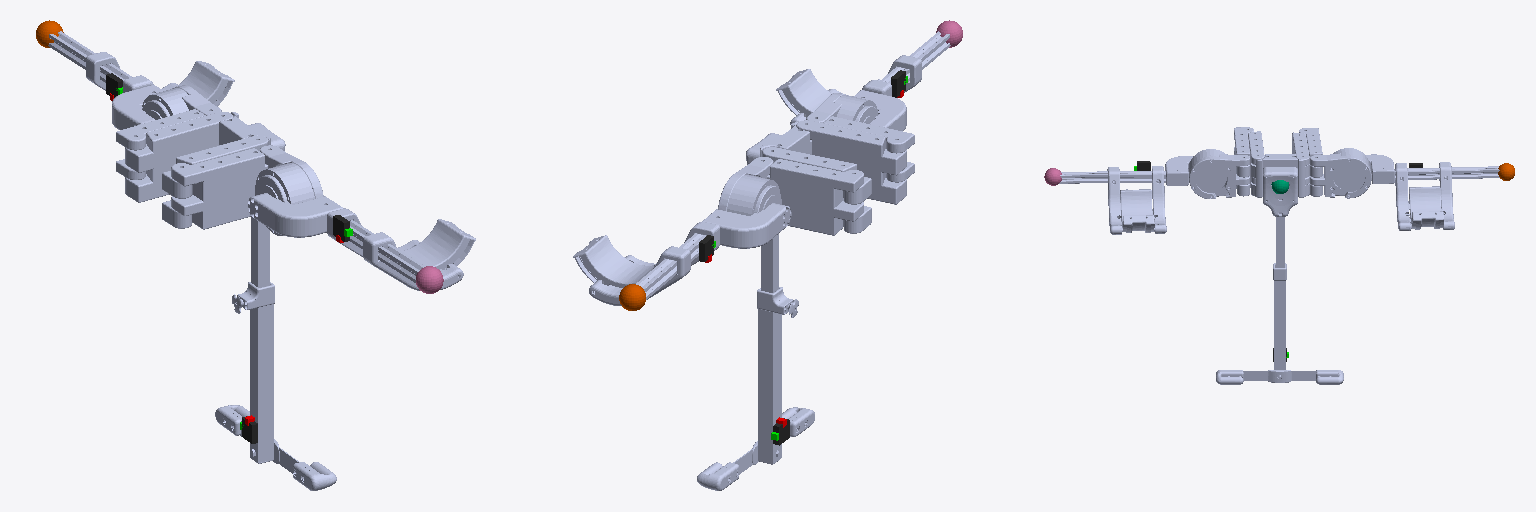
The robot description file, URDF, robot "exo1":
<?xml version="1.0" encoding="utf-8"?>
<!-- This URDF was automatically created by SolidWorks to URDF Exporter! Originally created by Stephen Brawner (brawner@gmail.com) 
     Commit Version: 1.6.0-4-g7f85cfe  Build Version: 1.6.7995.38578
     For more information, please see http://wiki.ros.org/sw_urdf_exporter -->
<robot name="exo1">
  <link name="base_link">
    <inertial>
      <origin xyz="-0.02 0 0.13" rpy="0 1.57 0" />
      <mass value="0.5" />
      <inertia ixx="0.00013" ixy="0" ixz="0" iyy="0.0026" iyz="0" izz="0.0026" />
    </inertial>
    <visual>
      <origin xyz="0 0 0" rpy="0 0 0" />
      <geometry>
        <mesh filename="./meshes/base_link.STL" />
      </geometry>
      <material name="">
        <color rgba="0.79216 0.81961 0.93333 1" />
      </material>
    </visual>
    <collision>
      <origin xyz="0 0 0" rpy="0 0 0" />
      <geometry>
        <mesh filename="./meshes/base_link.STL" />
      </geometry>
    </collision>
  </link>
  <link name="upper_back">
    <inertial>
      <origin xyz="-0.02 0 0.19" rpy="0 1.57 0" />
      <mass value="0.5" />
      <inertia ixx="0.00013" ixy="0" ixz="0" iyy="0.0051" iyz="0" izz="0.0051" />
    </inertial>
    <visual>
      <origin xyz="0 0 0" rpy="0 0 0" />
      <geometry>
        <mesh filename="./meshes/upper_back.STL" />
      </geometry>
      <material name="">
        <color rgba="0.79216 0.81961 0.93333 1" />
      </material>
    </visual>
    <collision>
      <origin xyz="0 0 0" rpy="0 0 0" />
      <geometry>
        <mesh filename="./meshes/upper_back.STL" />
      </geometry>
    </collision>
  </link>

  <link name="trunk_attachment">
    <inertial>
			<mass value="1e-09"/>
			<origin rpy="0 0 0" xyz="0 0 0"/>
			<inertia ixx="1e-8" ixy="0" ixz="0" iyy="1e-8" iyz="0" izz="1e-8"/>
		</inertial>
		<visual>
			<geometry>
				<sphere radius="0.02"/>
			</geometry>
			<origin rpy="0 0 0" xyz="0 0 0"/>
			<material name="red"/>
		</visual>
  </link>

  <joint name="J_trunk_attachment" type="fixed">
		<parent link="upper_back"/>
		<child link="trunk_attachment"/>
		<origin rpy="-1.5707963267948966 -1.5707963267948966 0" xyz="0 0 0.32"/>
	</joint>

  <joint name="back_sizing" type="fixed">
    <origin xyz="-0.0115 0.00125 0.15766" rpy="0 0 0" />
    <parent link="base_link" /><child link="upper_back" />
    <!-- <axis xyz="0 0 1" />
    <limit lower="-0.13" upper="0.10" effort="1000" velocity="1000" /> -->
  </joint>
  <!-- <joint name="back_sizing" type="prismatic">
    <origin xyz="-0.0115 0.00125 0.15766" rpy="0 0 0" />
    <parent link="base_link" />
    <child link="upper_back" />
    <axis xyz="0 0 1" />
    <limit lower="-0.13" upper="0.10" effort="1000" velocity="1000" />
  </joint> -->
  <link name="right_back_clavicle">
    <inertial>
      <origin xyz="-0.07 0 -0.05" rpy="1.57 0 0" />
      <mass value="0.3" />
      <inertia ixx="0.00017" ixy="0" ixz="0" iyy="0.00057" iyz="0" izz="0.0007" />
    </inertial>
    <visual>
      <origin xyz="0 0 0" rpy="0 0 0" />
      <geometry>
        <mesh filename="./meshes/right_back_clavicle.STL" />
      </geometry>
      <material name="">
        <color rgba="0.79216 0.81961 0.93333 1" />
      </material>
    </visual>
    <collision>
      <origin xyz="0 0 0" rpy="0 0 0" />
      <geometry>
        <mesh filename="./meshes/right_back_clavicle.STL" />
      </geometry>
    </collision>
  </link>
  <joint name="right_back_clavicle_joint" type="revolute">
    <origin xyz="-0.042927 -0.0498 0.37299" rpy="0 0 0.057138" />
    <parent link="upper_back" />
    <child link="right_back_clavicle" />
    <axis xyz="0 0 1" />
    <limit lower="0" upper="1.57" effort="1000" velocity="1000" />
  </joint>
  <link name="right_shoulder_clavicle">
    <inertial>
      <origin xyz="-0.07 0.02 -0.05" rpy="1.57 0 0" />
      <mass value="0.3" />
      <inertia ixx="0.00017" ixy="0" ixz="0" iyy="0.00057" iyz="0" izz="0.0007" />
    </inertial>
    <visual>
      <origin xyz="0 0 0" rpy="0 0 0" />
      <geometry>
        <mesh filename="./meshes/right_shoulder_clavicle.STL" />
      </geometry>
      <material name="">
        <color rgba="0.79216 0.81961 0.93333 1" />
      </material>
    </visual>
    <collision>
      <origin xyz="0 0 0" rpy="0 0 0" />
      <geometry>
        <mesh filename="./meshes/right_shoulder_clavicle.STL" />
      </geometry>
    </collision>
  </link>
  <joint name="right_shoulder_clavicle_joint" type="revolute">
    <origin xyz="-0.14 -0.015 -0.0015" rpy="0 0 3.1302" />
    <parent link="right_back_clavicle" />
    <child link="right_shoulder_clavicle" />
    <axis xyz="0 0 1" />
    <limit lower="-2.82" upper="0" effort="1000" velocity="1000" />
  </joint>
  <link name="right_motor">
    <inertial>
      <origin xyz="-0.06 0.025 -0.05" rpy="0 0 0" />
      <mass value="1.0" />
      <inertia ixx="0.001" ixy="-0" ixz="0" iyy="0.0015" iyz="0" izz="0.0015" />
    </inertial>
    <visual>
      <origin xyz="0 0 0" rpy="0 0 0" />
      <geometry>
        <mesh filename="./meshes/right_motor.STL" />
      </geometry>
      <material name="">
        <color rgba="0.79216 0.81961 0.93333 1" />
      </material>
    </visual>
    <collision>
      <origin xyz="0 0 0" rpy="0 0 0" />
      <geometry>
        <mesh filename="./meshes/right_motor.STL" />
      </geometry>
    </collision>
  </link>
  <joint name="right_shoulder_joint" type="revolute">
    <origin xyz="-0.14 0.015 -0.0015" rpy="0 0 -1.5708" />
    <parent link="right_shoulder_clavicle" />
    <child link="right_motor" />
    <axis xyz="0 0 1" />
    <limit lower="-0.16" upper="3.14" effort="1000" velocity="1000" />
  </joint>
  <link name="right_arm">
    <inertial>
      <origin xyz="-0.2 0.02 -0.05" rpy="0 0 -0.07" />
      <mass value="0.3" />
      <inertia ixx="0.00005" ixy="0" ixz="0" iyy="0.0025" iyz="0" izz="0.0025" />
    </inertial>
    <visual>
      <origin xyz="0 0 0" rpy="0 0 0" />
      <geometry>
        <mesh filename="./meshes/right_arm.STL" />
      </geometry>
      <material name="">
        <color rgba="0.79216 0.81961 0.93333 1" />
      </material>
    </visual>
    <collision>
      <origin xyz="0 0 0" rpy="0 0 0" />
      <geometry>
        <mesh filename="./meshes/right_arm.STL" />
      </geometry>
    </collision>
  </link>
  <joint name="right_motor_joint" type="revolute">
    <origin xyz="-0.072 0.0505 -0.04575" rpy="-1.5708 0.088715 0" />
    <parent link="right_motor" />
    <child link="right_arm" />
    <axis xyz="0 0 1" />
    <limit lower="-1.76" upper="1.65" effort="1000" velocity="1000" />
  </joint>
  <link name="right_arm_slider">
    <inertial>
      <origin xyz="0.05 -0.05 0.06" rpy="1.57 -0.6 0" />
      <mass value="0.2" />
       <inertia ixx="0.00038" ixy="0" ixz="0" iyy="0.00038" iyz="0" izz="0.00075" />
    </inertial>
    <visual>
      <origin xyz="0 0 0" rpy="0 0 0" />
      <geometry>
        <mesh filename="./meshes/right_arm_slider.STL" />
      </geometry>
      <material name="">
        <color rgba="0.79216 0.81961 0.93333 1" />
      </material>
    </visual>
    <collision>
      <origin xyz="0 0 0" rpy="0 0 0" />
      <geometry>
        <mesh filename="./meshes/right_arm_slider.STL" />
      </geometry>
    </collision>
  </link>
   <joint name="right_arm_slider_sizing" type="fixed">
    <origin xyz="-0.11172 -0.011818 -0.047474" rpy="-1.3026 1.5708 1.7489" />
    <parent link="right_arm" /><child link="right_arm_slider" />
  </joint>
  <link name="right_arm_interface">
    <inertial>
      <origin xyz="0 -0.05 -0.03" rpy="1.57 0 0" />
      <mass value="0.2" />
       <inertia ixx="0.00017" ixy="0" ixz="0" iyy="0.00038" iyz="0" izz="0.00054" />
    </inertial>
    <visual>
      <origin xyz="0 0 0" rpy="0 0 0" />
      <geometry>
        <mesh filename="./meshes/right_arm_interface.STL" />
      </geometry>
      <material name="">
        <color rgba="0.79216 0.81961 0.93333 1" />
      </material>
    </visual>
    <collision>
      <origin xyz="0 0 0" rpy="0 0 0" />
      <geometry>
        <mesh filename="./meshes/right_arm_interface.STL" />
      </geometry>
    </collision>
  </link>
  <joint name="right_arm_interface_joint" type="fixed">
    <origin xyz="0.10023 -0.0175 0.0915" rpy="0 0 0" />
    <parent link="right_arm_slider" /><child link="right_arm_interface" />
  </joint>
  <link name="left_back_clavicle">
    <inertial>
      <origin xyz="-0.07 0.0 -0.05" rpy="1.57 0 0" />
      <mass value="0.3" />
      <inertia ixx="0.00017" ixy="0" ixz="0" iyy="0.00057" iyz="0" izz="0.0007" />
    </inertial>
    <visual>
      <origin xyz="0 0 0" rpy="0 0 0" />
      <geometry>
        <mesh filename="./meshes/left_back_clavicle.STL" />
      </geometry>
      <material name="">
        <color rgba="0.79216 0.81961 0.93333 1" />
      </material>
    </visual>
    <collision>
      <origin xyz="0 0 0" rpy="0 0 0" />
      <geometry>
        <mesh filename="./meshes/left_back_clavicle.STL" />
      </geometry>
    </collision>
  </link>
  <joint name="left_back_clavicle_joint" type="revolute">
    <origin xyz="-0.042927 0.0502 0.37012" rpy="0 0 0.067566" />
    <parent link="upper_back" />
    <child link="left_back_clavicle" />
    <axis xyz="0 0 1" />
    <limit lower="-1.57" upper="0" effort="1000" velocity="100" />
  </joint>
  <link name="left_shoulder_clavicle">
    <inertial>
      <origin xyz="-0.07 -0.01 -0.05" rpy="1.57 0 0" />
      <mass value="0.3" />
      <inertia ixx="0.00017" ixy="0" ixz="0" iyy="0.00057" iyz="0" izz="0.0007" />
    </inertial>
    <visual>
      <origin xyz="0 0 0" rpy="0 0 0" />
      <geometry>
        <mesh filename="./meshes/left_shoulder_clavicle.STL" />
      </geometry>
      <material name="">
        <color rgba="0.79216 0.81961 0.93333 1" />
      </material>
    </visual>
    <collision>
      <origin xyz="0 0 0" rpy="0 0 0" />
      <geometry>
        <mesh filename="./meshes/left_shoulder_clavicle.STL" />
      </geometry>
    </collision>
  </link>
  <joint name="left_shoulder_clavicle_joint" type="revolute">
    <origin xyz="-0.14 0.015 -0.0015" rpy="0 0 -3.1385" />
    <parent link="left_back_clavicle" />
    <child link="left_shoulder_clavicle" />
    <axis xyz="0 0 1" />
    <limit lower="0" upper="3.14" effort="1000" velocity="1000" />
  </joint>
  <link name="left_motor">
    <inertial>
      <origin xyz="0.02 -0.07 -0.05" rpy="0 0 1.57" />
      <mass value="1.0" />
      <inertia ixx="0.001" ixy="-0" ixz="0" iyy="0.0015" iyz="0" izz="0.0015" />
    </inertial>
    <visual>
      <origin xyz="0 0 0" rpy="0 0 0" />
      <geometry>
        <mesh filename="./meshes/left_motor.STL" />
      </geometry>
      <material name="">
        <color rgba="0.79216 0.81961 0.93333 1" />
      </material>
    </visual>
    <collision>
      <origin xyz="0 0 0" rpy="0 0 0" />
      <geometry>
        <mesh filename="./meshes/left_motor.STL" />
      </geometry>
    </collision>
  </link>
  <joint name="left_shoulder_joint" type="revolute">
    <origin xyz="-0.14 -0.015 -0.0015" rpy="0 0 0" />
    <parent link="left_shoulder_clavicle" />
    <child link="left_motor" />
    <axis xyz="0 0 1" />
    <limit lower="-3.14" upper="0.16" effort="1000" velocity="1000" />
  </joint>
  <link name="left_arm">
    <inertial>
      <origin xyz="-0.2 0.0 -0.05" rpy="0 0 0" />
      <mass value="0.3" />
      <inertia ixx="0.00005" ixy="0" ixz="0" iyy="0.0025" iyz="0" izz="0.0025" />
    </inertial>
    <visual>
      <origin xyz="0 0 0" rpy="0 0 0" />
      <geometry>
        <mesh filename="./meshes/left_arm.STL" />
      </geometry>
      <material name="">
        <color rgba="0.79216 0.81961 0.93333 1" />
      </material>
    </visual>
    <collision>
      <origin xyz="0 0 0" rpy="0 0 0" />
      <geometry>
        <mesh filename="./meshes/left_arm.STL" />
      </geometry>
    </collision>
  </link>

  <link name="left_arm_tip">
    <inertial>
			<mass value="1e-09"/>
			<origin rpy="0 0 0" xyz="0 0 0"/>
			<inertia ixx="1e-8" ixy="0" ixz="0" iyy="1e-8" iyz="0" izz="1e-8"/>
		</inertial>
		<visual>
			<geometry>
				<sphere radius="0.02"/>
			</geometry>
			<origin rpy="0 0 0" xyz="0 0 0"/>
			<material name="red"/>
		</visual>
  </link>

  <joint name="J_left_arm_tip" type="fixed">
		<parent link="left_arm"/>
		<child link="left_arm_tip"/>
		<origin rpy="-1.5707963267948966 -1.5707963267948966 0" xyz="-0.35 0 -0.05"/>
	</joint>

  <link name="right_arm_tip">
    <inertial>
			<mass value="1e-09"/>
			<origin rpy="0 0 0" xyz="0 0 0"/>
			<inertia ixx="1e-8" ixy="0" ixz="0" iyy="1e-8" iyz="0" izz="1e-8"/>
		</inertial>
		<visual>
			<geometry>
				<sphere radius="0.02"/>
			</geometry>
			<origin rpy="0 0 0" xyz="0 0 0"/>
			<material name="red"/>
		</visual>
  </link>

  <joint name="J_right_arm_tip" type="fixed">
		<parent link="right_arm"/>
		<child link="right_arm_tip"/>
		<origin rpy="-1.5707963267948966 -1.5707963267948966 0" xyz="-0.35 0.025 -0.050"/>
	</joint>


  <joint name="left_motor_joint" type="revolute">
    <origin xyz="0.047534 -0.072641 -0.04575" rpy="1.5708 0 1.5574" />
    <parent link="left_motor" />
    <child link="left_arm" />
    <axis xyz="0 0 1" />
    <limit lower="-1.65" upper="1.76" effort="1000" velocity="1000" />
  </joint>
  <link name="left_arm_slider">
    <inertial>
      <origin xyz="-0.05 -0.05 0.05" rpy="1.57 0.6 0" />
      <mass value="0.2" />
      <inertia ixx="0.00038" ixy="0" ixz="0" iyy="0.00038" iyz="0" izz="0.00075" />
    </inertial>
    <visual>
      <origin xyz="0 0 0" rpy="0 0 0" />
      <geometry>
        <mesh filename="./meshes/left_arm_slider.STL" />
      </geometry>
      <material name="">
        <color rgba="0.79216 0.81961 0.93333 1" />
      </material>
    </visual>
    <collision>
      <origin xyz="0 0 0" rpy="0 0 0" />
      <geometry>
        <mesh filename="./meshes/left_arm_slider.STL" />
      </geometry>
    </collision>
  </link>
  <joint name="left_arm_slider_sizing" type="fixed">
    <origin xyz="-0.10802 0.019995 -0.045874" rpy="0 -1.5708 0" />
    <parent link="left_arm" /><child link="left_arm_slider" />
  </joint>
  <link name="left_arm_interface">
    <inertial>
      <origin xyz="0 -0.05 0.03" rpy="1.57 0 0" />
      <mass value="0.2" />
      <inertia ixx="0.00017" ixy="0" ixz="0" iyy="0.00038" iyz="0" izz="0.00054" />
    </inertial>
    <visual>
      <origin xyz="0 0 0" rpy="0 0 0" />
      <geometry>
        <mesh filename="./meshes/left_arm_interface.STL" />
      </geometry>
      <material name="">
        <color rgba="0.79216 0.81961 0.93333 1" />
      </material>
    </visual>
    <collision>
      <origin xyz="0 0 0" rpy="0 0 0" />
      <geometry>
        <mesh filename="./meshes/left_arm_interface.STL" />
      </geometry>
    </collision>
  </link>
  <joint name="left_arm_interface_joint" type="fixed">
    <origin xyz="-0.10023 -0.0175 0.0915" rpy="-3.1416 0 3.1004" />
    <parent link="left_arm_slider" /><child link="left_arm_interface" />
  </joint>
  <link name="back_imu">
    
    <visual>
      <origin xyz="0 0 0" rpy="0 0 0" />
      <geometry>
        <box size="0.03 0.03 0.01" /> </geometry>
      <material name="imu_dark_gray">
        <color rgba="0.2 0.2 0.2 1.0" />
      </material>
    </visual>

    <visual>
      <origin xyz="0.015 0 0" rpy="0 0 0" />
      <geometry>
        <box size="0.01 0.01 0.012" /> </geometry>
      <material name="imu_red">
        <color rgba="1.0 0.0 0.0 1.0" />
      </material>
    </visual>

    <visual>
      <origin xyz="0 0.015 0" rpy="0 0 0" />
      <geometry>
        <box size="0.01 0.012 0.01" /> </geometry>
      <material name="imu_green">
        <color rgba="0.0 1.0 0.0 1.0" />
      </material>
    </visual>
    
  </link>

  <joint name="back_imu_joint" type="fixed">
    <parent link="base_link" /> <child link="back_imu" />
    <origin xyz="-0.04 0.0 0.05" rpy="0 -1.57 0" /> 
  </joint>

  <link name="left_arm_imu">
    
    <visual>
      <origin xyz="0 0 0" rpy="0 0 0" />
      <geometry>
        <box size="0.03 0.03 0.01" /> </geometry>
      <material name="imu_dark_gray">
        <color rgba="0.2 0.2 0.2 1.0" />
      </material>
    </visual>

    <visual>
      <origin xyz="0.015 0 0" rpy="0 0 0" />
      <geometry>
        <box size="0.01 0.01 0.012" /> </geometry>
      <material name="imu_red">
        <color rgba="1.0 0.0 0.0 1.0" />
      </material>
    </visual>

    <visual>
      <origin xyz="0 0.015 0" rpy="0 0 0" />
      <geometry>
        <box size="0.01 0.012 0.01" /> </geometry>
      <material name="imu_green">
        <color rgba="0.0 1.0 0.0 1.0" />
      </material>
    </visual>
    
  </link>

  <joint name="left_arm_imu_joint" type="fixed">
    <parent link="left_arm" /> <child link="left_arm_imu" />
    <origin xyz="-0.15 0.0 -0.03" rpy="0 0 -1.57" /> 
  </joint>

  <link name="right_arm_imu">
    
    <visual>
      <origin xyz="0 0 0" rpy="0 0 0" />
      <geometry>
        <box size="0.03 0.03 0.01" /> </geometry>
      <material name="imu_dark_gray">
        <color rgba="0.2 0.2 0.2 1.0" />
      </material>
    </visual>

    <visual>
      <origin xyz="0.015 0 0" rpy="0 0 0" />
      <geometry>
        <box size="0.01 0.01 0.012" /> </geometry>
      <material name="imu_red">
        <color rgba="1.0 0.0 0.0 1.0" />
      </material>
    </visual>

    <visual>
      <origin xyz="0 0.015 0" rpy="0 0 0" />
      <geometry>
        <box size="0.01 0.012 0.01" /> </geometry>
      <material name="imu_green">
        <color rgba="0.0 1.0 0.0 1.0" />
      </material>
    </visual>
    
  </link>

  <joint name="right_arm_imu_joint" type="fixed">
    <parent link="right_arm" /> <child link="right_arm_imu" />
    <origin xyz="-0.15 0.0 -0.03" rpy="0 0 1.5" />
  </joint>

</robot>

--- What the picture shows (computed from the rendered views, not written in the file) ---
3 views of the same robot in one strip: view 1: azimuth 30°, elevation 25°; view 2: azimuth 150°, elevation 25°; view 3: azimuth 270°, elevation 25° (orthographic).
Model exo1 with 20 links and 19 joints (8 revolute, 11 fixed), rooted at base_link, posed every joint at zero.
Links seen in each view (by area): view 1: base_link, right_shoulder_clavicle, left_back_clavicle, right_arm, right_motor, left_arm, upper_back, right_arm_interface, right_back_clavicle, right_arm_slider, left_motor, left_shoulder_clavicle (+3 smaller); view 2: base_link, left_shoulder_clavicle, right_back_clavicle, left_arm, left_motor, left_arm_interface, upper_back, right_arm, left_back_clavicle, left_arm_slider, right_arm_interface, right_motor (+3 smaller); view 3: upper_back, base_link, left_motor, right_motor, right_arm_slider, right_arm, left_arm, left_arm_slider, right_arm_interface, left_arm_interface, right_shoulder_clavicle, left_shoulder_clavicle.
Boxes of the visible links, box(x1,y1,x2,y2) form: base_link: box(215, 282, 336, 490); right_shoulder_clavicle: box(171, 148, 267, 229); left_back_clavicle: box(125, 112, 233, 202); right_arm: box(248, 193, 425, 282); right_motor: box(255, 145, 323, 235); left_arm: box(48, 31, 162, 129); upper_back: box(219, 112, 285, 287); right_arm_interface: box(402, 219, 475, 269); right_back_clavicle: box(162, 136, 268, 228); right_arm_slider: box(327, 208, 463, 290); left_motor: box(142, 85, 221, 119); left_shoulder_clavicle: box(116, 109, 205, 179); base_link: box(697, 287, 814, 490); left_shoulder_clavicle: box(767, 159, 863, 235); right_back_clavicle: box(796, 120, 906, 204); left_arm: box(636, 203, 791, 299); left_motor: box(718, 157, 781, 215); left_arm_interface: box(573, 235, 656, 287); upper_back: box(746, 122, 811, 292); right_arm: box(853, 31, 950, 130); left_back_clavicle: box(762, 147, 871, 233); left_arm_slider: box(589, 222, 719, 305); right_arm_interface: box(776, 69, 879, 117); right_motor: box(806, 93, 878, 123); upper_back: box(1251, 154, 1309, 267); base_link: box(1216, 263, 1343, 384); left_motor: box(1310, 148, 1371, 198); right_motor: box(1188, 149, 1249, 198); right_arm_slider: box(1107, 166, 1166, 234); right_arm: box(1059, 156, 1192, 185); left_arm: box(1366, 154, 1499, 183); left_arm_slider: box(1395, 162, 1454, 230); right_arm_interface: box(1120, 189, 1154, 232); left_arm_interface: box(1409, 186, 1443, 229); right_shoulder_clavicle: box(1234, 127, 1253, 196); left_shoulder_clavicle: box(1299, 128, 1322, 196).
Size in the robot's own frame: 0.3452 by 1.05 by 0.5339 metres.
Meshes: 14 distinct files referenced, 14 mesh visuals loaded (14 binary STL).
